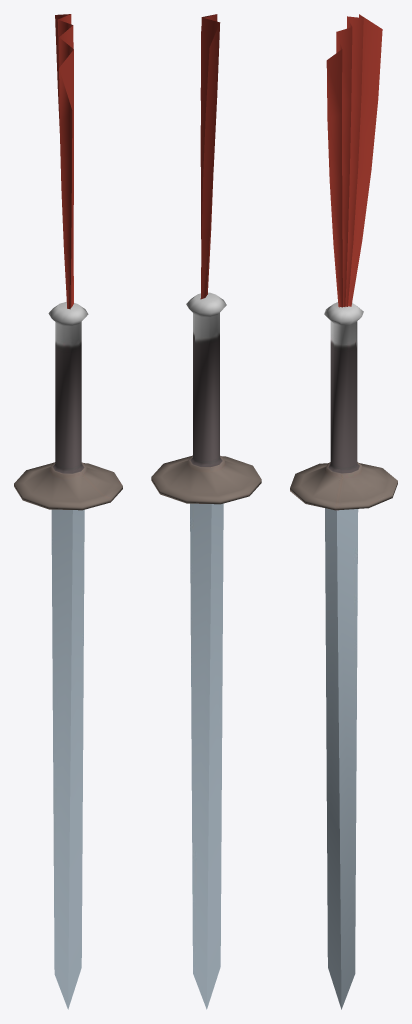
Rendered from warrior-sword-01.obj.
The picture shows the model from 3 angles, left to right: view 1: azimuth 30°, elevation 25°; view 2: azimuth 210°, elevation 25°; view 3: azimuth 330°, elevation 25°; orthographic projection.
Parts seen in each view (by area): view 1: LOW_SWORD_USE; view 2: LOW_SWORD_USE; view 3: LOW_SWORD_USE.
Part boxes in pixels (left/top/right/bottom): LOW_SWORD_USE: left=14, top=14, right=122, bottom=1009; LOW_SWORD_USE: left=151, top=14, right=261, bottom=1009; LOW_SWORD_USE: left=290, top=14, right=397, bottom=1009.
Bounding box in the file's own units: 7.87 × 78.64 × 7.61.
